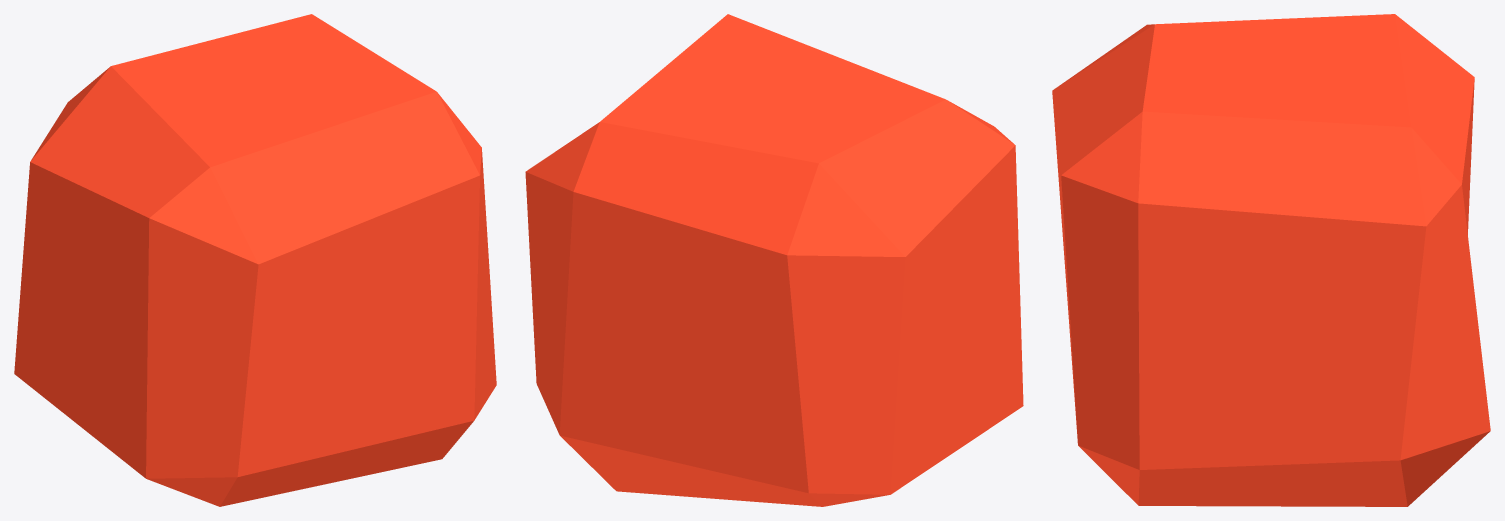
Rendered from FX_Flame_Chunk_Outer.fbx.
3 views of the same model, side by side, from view 1: azimuth 30°, elevation 25°; view 2: azimuth 150°, elevation 25°; view 3: azimuth 270°, elevation 25° (orthographic). The views are drawn at different scales.
Parts seen in each view (by area): view 1: FX_Flame_Chunk_Outer; view 2: FX_Flame_Chunk_Outer; view 3: FX_Flame_Chunk_Outer.
Part boxes in pixels (x1,y1,x2,y2): FX_Flame_Chunk_Outer: [14, 14, 496, 506]; FX_Flame_Chunk_Outer: [525, 14, 1023, 506]; FX_Flame_Chunk_Outer: [1052, 14, 1490, 506].
Size of the model in its own units: 0.2166 by 0.2167 by 0.2139.
